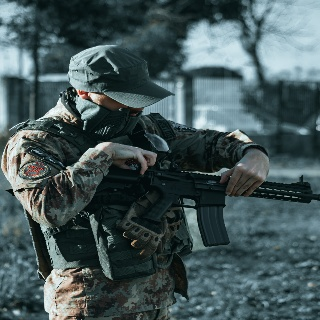rifle: (93, 161, 320, 249)
